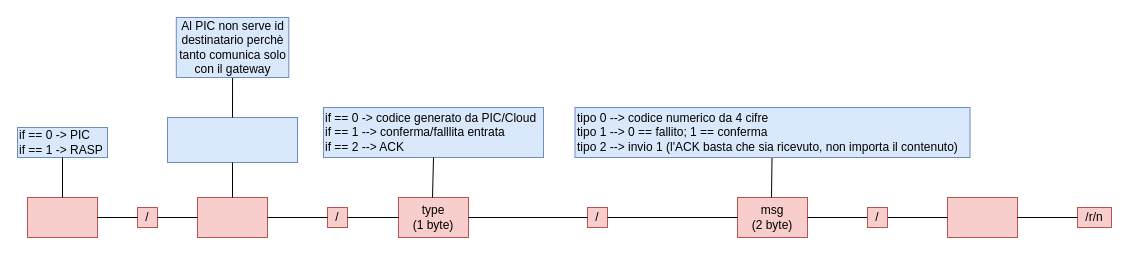
Image size: 1129x255. Some labels were removed from this diagram. Here are the shapes that lost their labels. From the top down, the box of each, then its label:
(166, 116, 298, 162): Se il mittente è il Raspberry, questo diventa id destinatario
(26, 196, 98, 238): source (1 byte)
(196, 196, 268, 238): id_PIC (1 byte)
(946, 196, 1018, 238): CRC (2 byte)
